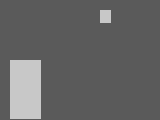person: (10, 60, 40, 118), (100, 10, 110, 22)
